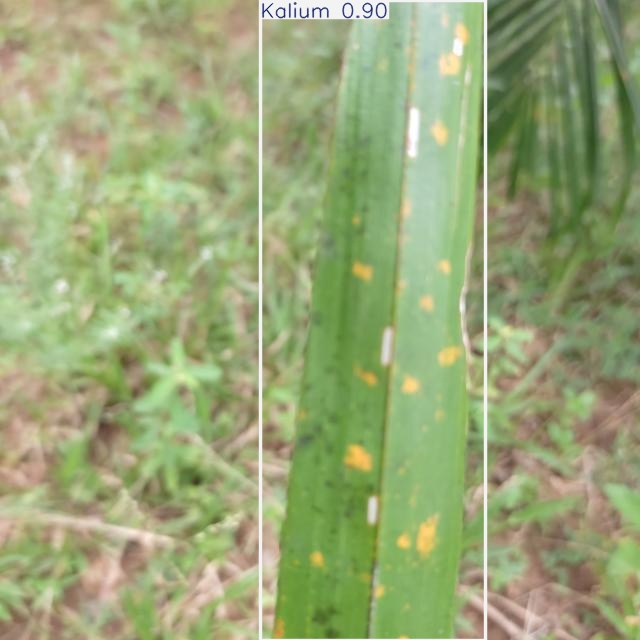Kalium: (260, 0, 485, 640)
